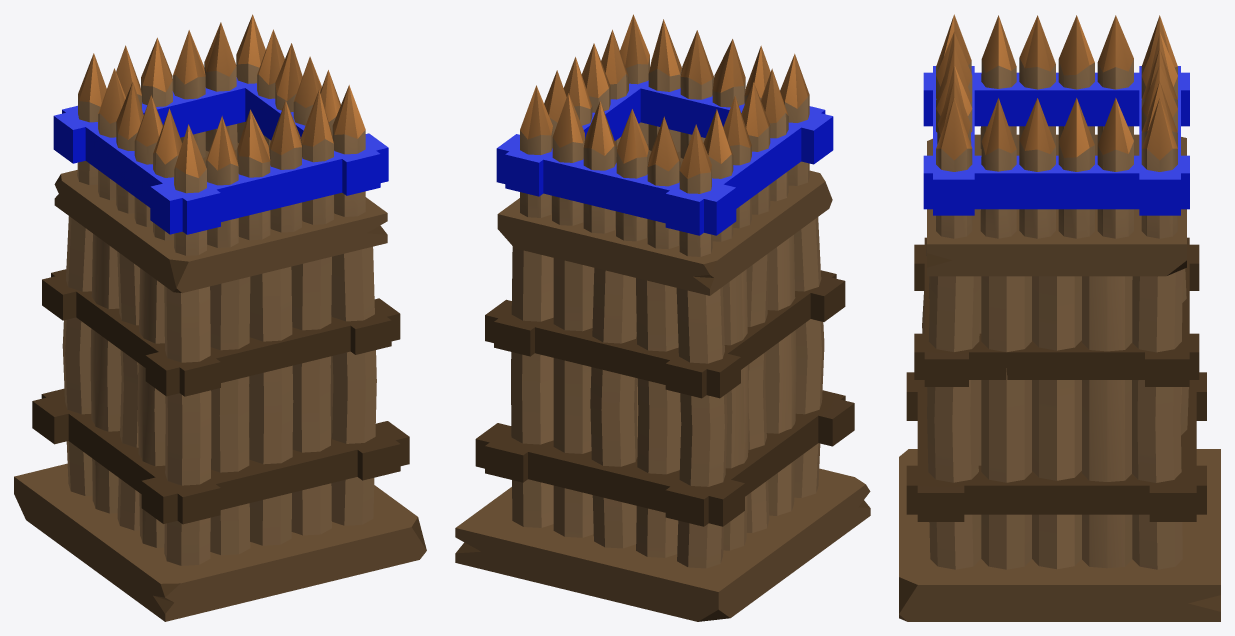
File: Tower2.fbx
3 renders of one model, left to right at view 1: azimuth 30°, elevation 25°; view 2: azimuth 150°, elevation 25°; view 3: azimuth 270°, elevation 25°, orthographic. The views are drawn at different scales.
Parts seen in each view (by area): view 1: Tower2; view 2: Tower2; view 3: Tower2.
Part boxes in pixels (<box>): Tower2: <box>14,14,426,621</box>; Tower2: <box>455,14,870,621</box>; Tower2: <box>899,14,1220,621</box>.
Bounding box in the file's own units: 350 × 600 × 350.
